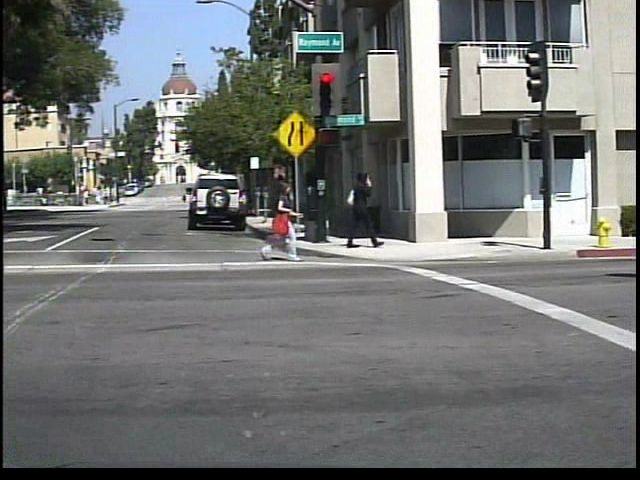person: (261, 176, 311, 263), (347, 165, 388, 251)
